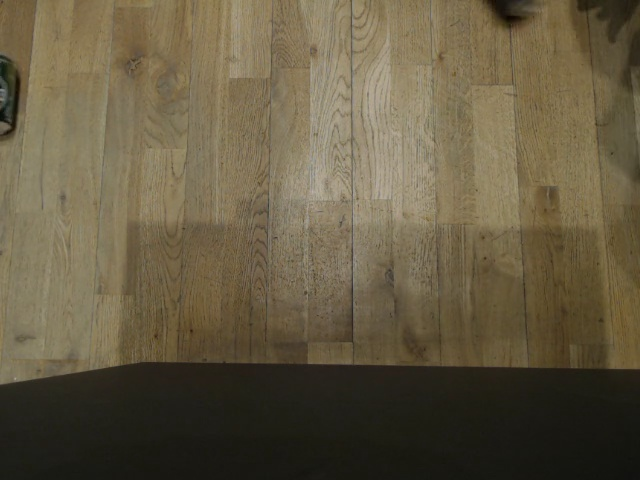beer: (0, 49, 23, 141)
